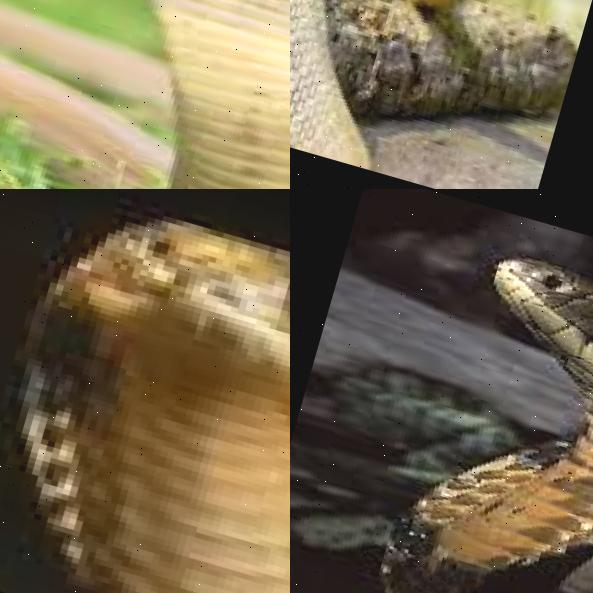snake: (0, 189, 290, 593), (306, 215, 593, 593), (0, 0, 290, 189), (290, 0, 580, 189)
